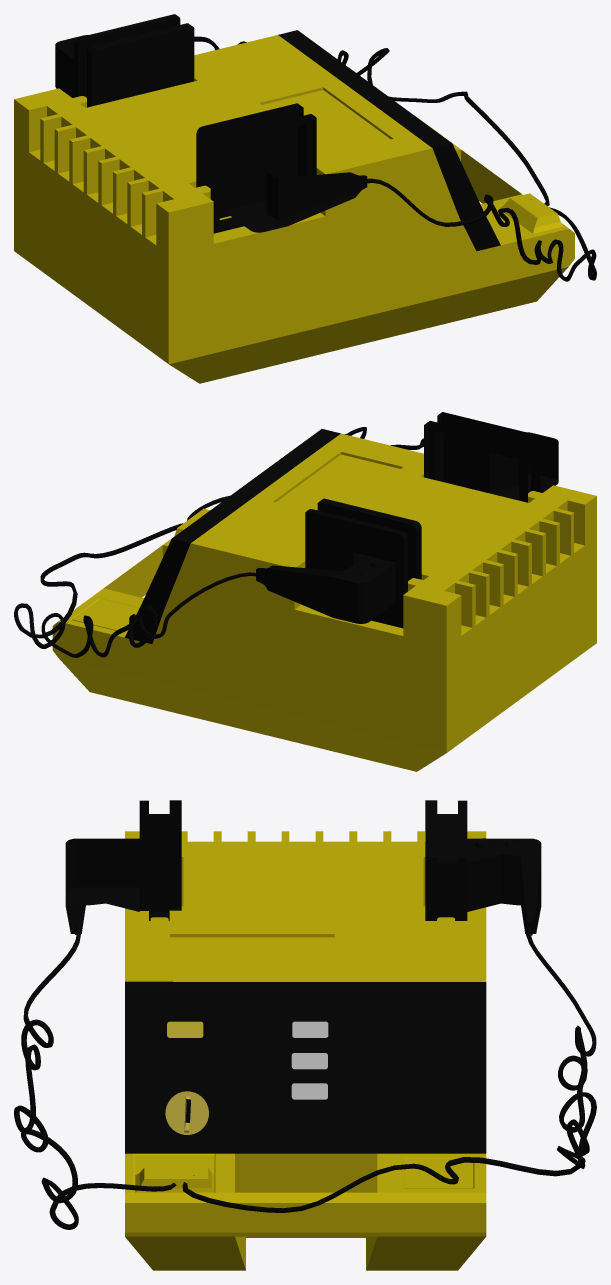
The model's file is DesfribiladorV_3.glb.
The picture shows the model from 3 angles, top to bottom: view 1: azimuth 30°, elevation 25°; view 2: azimuth 150°, elevation 25°; view 3: azimuth 270°, elevation 25°; orthographic projection. The views are drawn at different scales.
Parts seen in each view (by area): view 1: Cube, Paleta1.001, Paleta1, Catenary, Catenary.001; view 2: Cube, Paleta1, Paleta1.001, Catenary.001, Catenary; view 3: Cube, Cube.002, Paleta1, Paleta1.001, Catenary.001, Catenary, Perilla, Boton, Boton.004, Boton.006, Boton.001, Boton.003 (+1 smaller).
Part boxes in pixels (box(x1,y1,x2,y2)): Cube: box(14, 30, 574, 383); Paleta1.001: box(196, 103, 367, 233); Paleta1: box(55, 14, 194, 107); Catenary: box(361, 178, 596, 281); Catenary.001: box(194, 36, 549, 205); Cube: box(52, 429, 596, 771); Paleta1: box(256, 498, 421, 628); Paleta1.001: box(424, 412, 558, 502); Catenary.001: box(14, 523, 255, 657); Catenary: box(187, 427, 423, 520); Cube: box(125, 831, 486, 1270); Cube.002: box(348, 1023, 462, 1137); Paleta1: box(425, 800, 541, 935); Paleta1.001: box(65, 800, 181, 934); Catenary.001: box(182, 927, 596, 1212); Catenary: box(14, 924, 176, 1229); Perilla: box(165, 1091, 208, 1134); Boton: box(167, 1021, 203, 1037); Boton.004: box(292, 1021, 328, 1037); Boton.006: box(291, 1083, 327, 1099); Boton.001: box(167, 1053, 203, 1069); Boton.003: box(229, 1053, 265, 1069).
Bounding box in the file's own units: 8.23 × 4.43 × 8.18.
